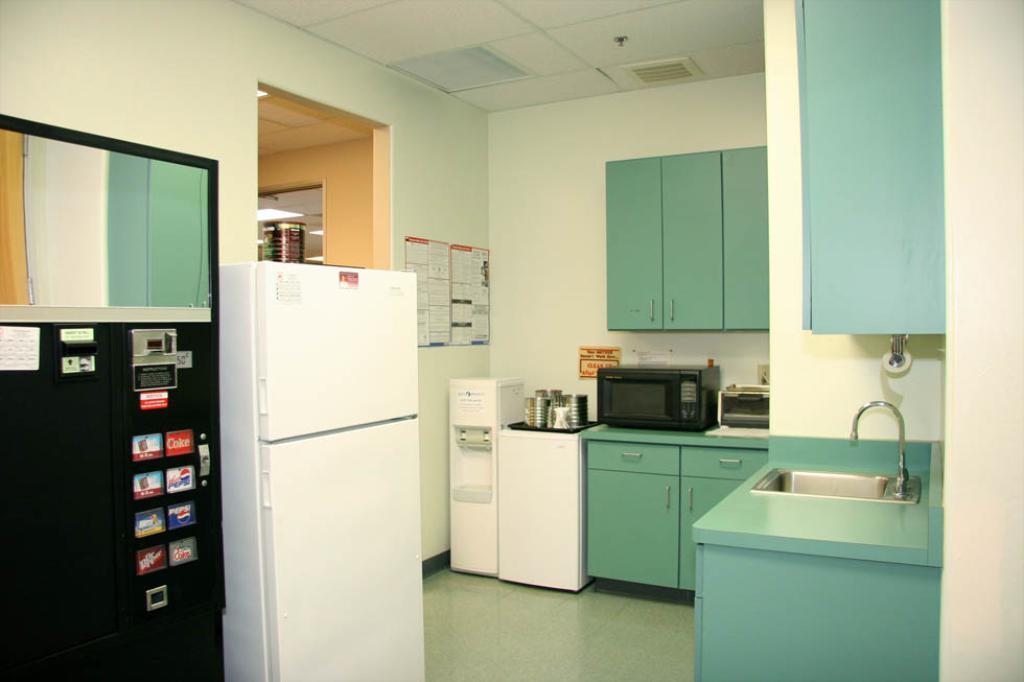cabinet_door: (580, 474, 681, 584), (662, 160, 716, 324), (609, 166, 660, 325), (680, 476, 726, 582), (588, 442, 674, 471), (686, 446, 760, 471)
handle: (710, 446, 750, 469), (260, 466, 278, 512), (256, 377, 274, 419), (660, 482, 681, 510), (620, 445, 646, 464), (664, 293, 678, 320), (686, 485, 696, 516), (644, 300, 658, 321)
